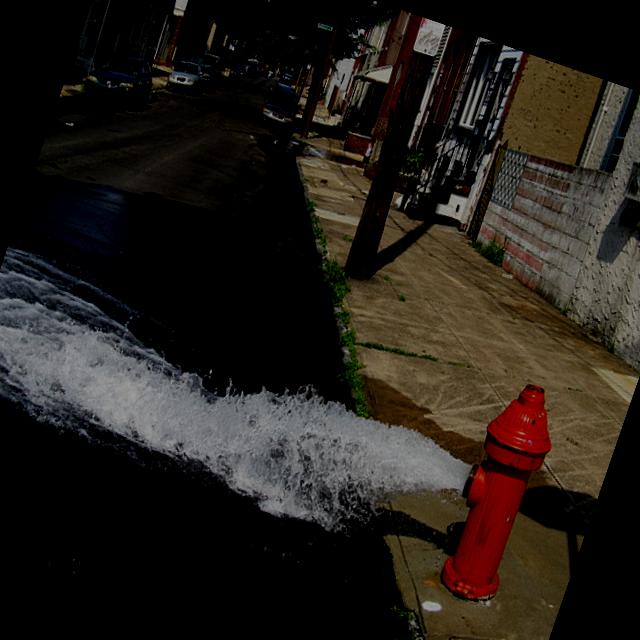Vehicle: (78, 45, 158, 119), (254, 84, 303, 134), (182, 47, 227, 94), (162, 56, 206, 100), (228, 62, 246, 82), (241, 56, 259, 76), (279, 70, 293, 86), (255, 60, 266, 76)
